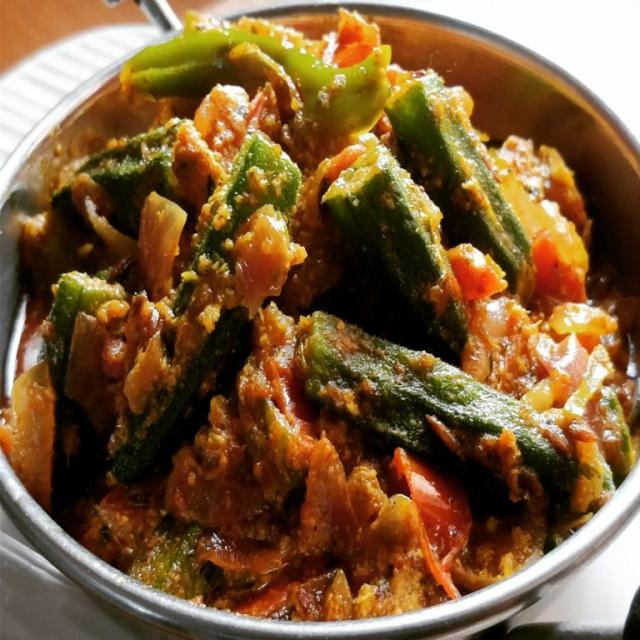BhindiMasala: (1, 7, 640, 624)
